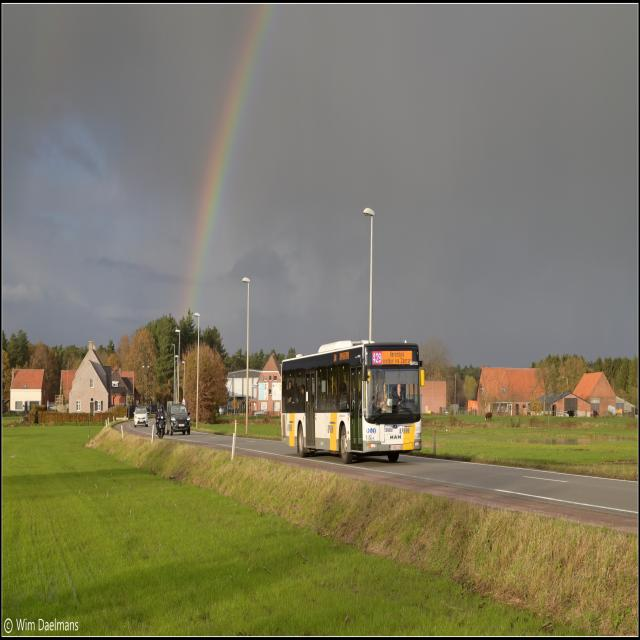bus-number: (372, 351, 382, 365)
